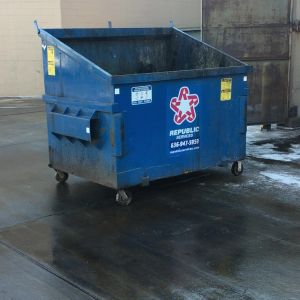Dumpster: (31, 17, 256, 209)
